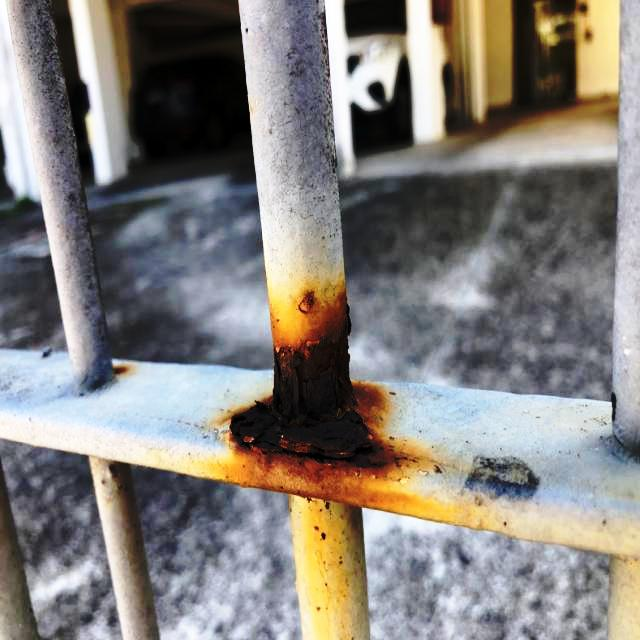Corrosion: (210, 279, 449, 525), (116, 365, 134, 381)
